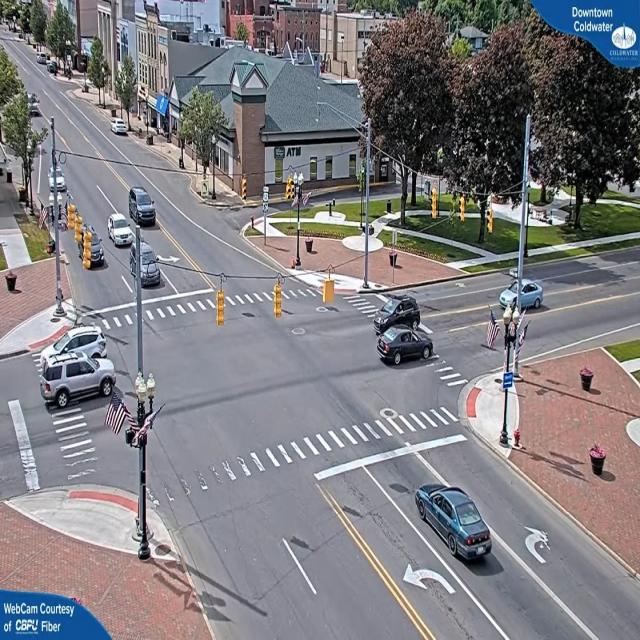car: (414, 486, 495, 565), (42, 357, 111, 410), (375, 323, 434, 367), (126, 188, 158, 224), (138, 246, 162, 289), (108, 214, 136, 247)
